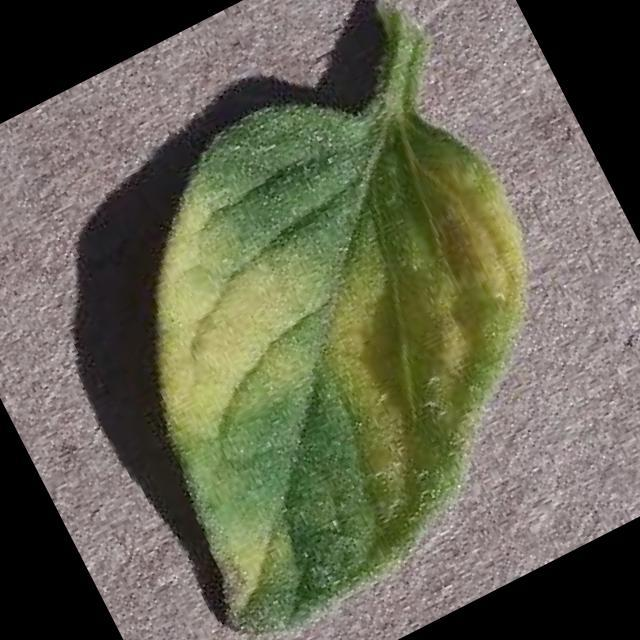Tomato mold leaf: (24, 28, 640, 640)
